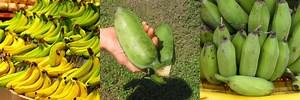banana: (1, 2, 100, 99), (197, 30, 300, 96), (109, 6, 180, 77), (200, 0, 300, 35)
